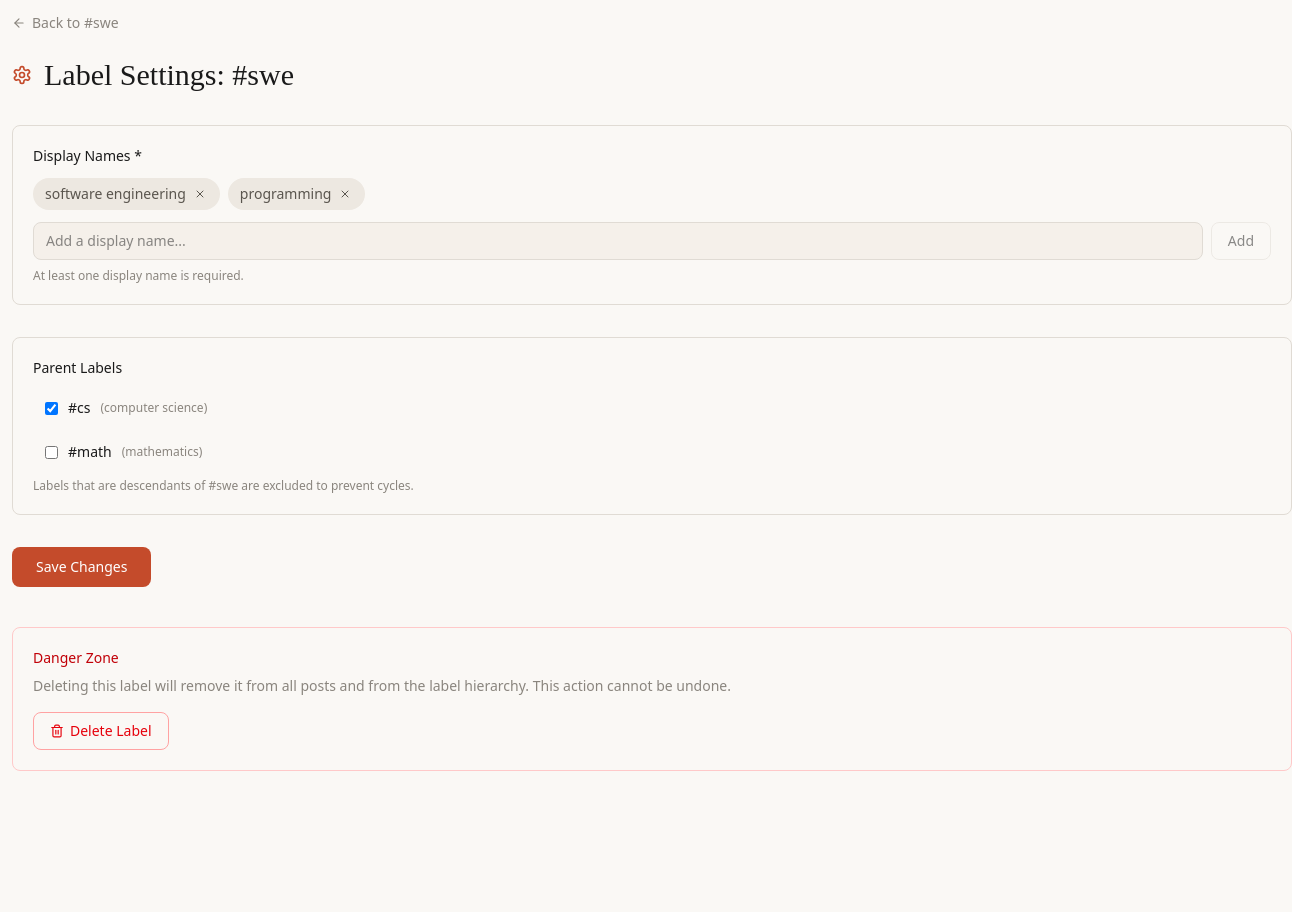
LabelSettingsPage › shows 409 cycle error on save
Check: the text "software engineering" is shown, box top-left (33, 178), bottom-right (220, 210)
Step 1. Click the button "Save Changes" → (82,567), box top-left (12, 547), bottom-right (151, 587)
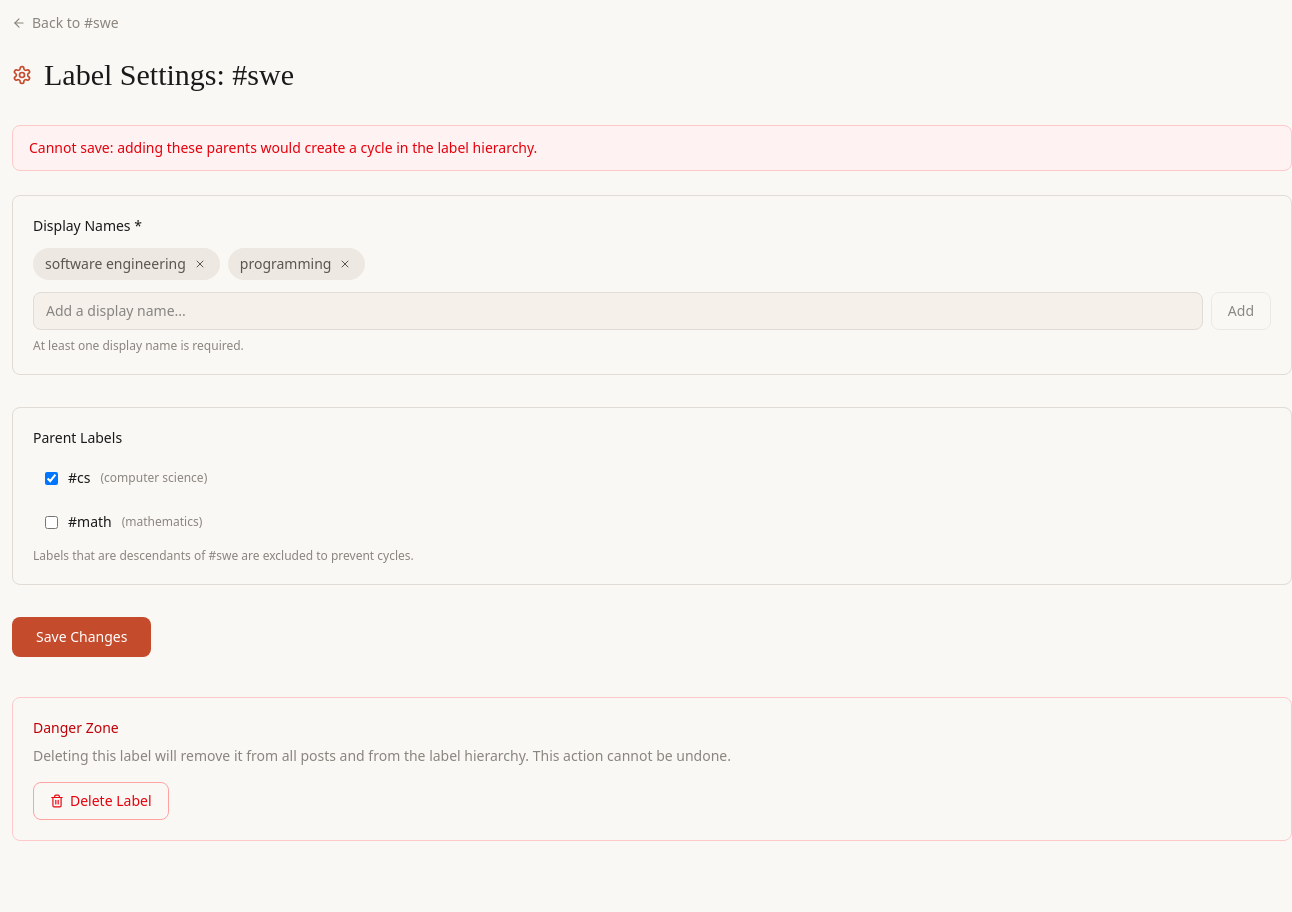
Check: the text "create a cycle" is shown, box top-left (29, 138), bottom-right (537, 157)
